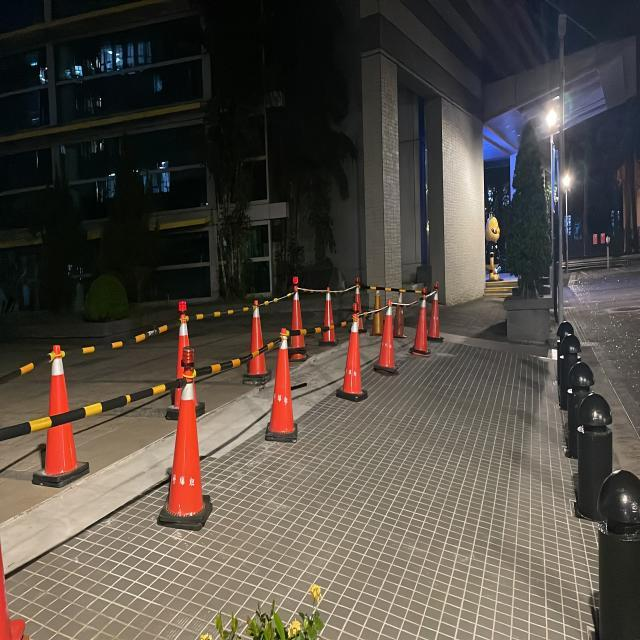traffic cone: (157, 364, 213, 530), (31, 345, 91, 489), (0, 461, 35, 640), (0, 513, 49, 640), (264, 332, 299, 443), (0, 522, 32, 640), (164, 315, 192, 420), (336, 314, 368, 402), (242, 302, 271, 385), (373, 301, 400, 375), (287, 285, 309, 362), (408, 289, 432, 358), (318, 287, 338, 347), (427, 293, 444, 342)
